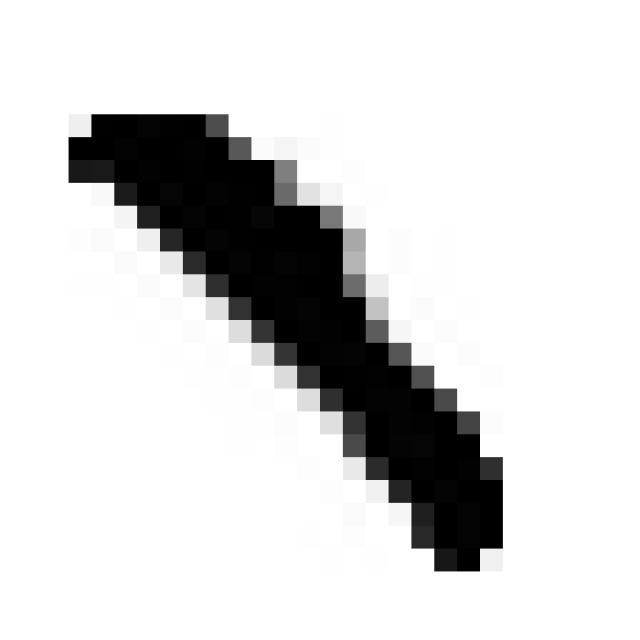0 -zero-: (46, 87, 517, 589)
